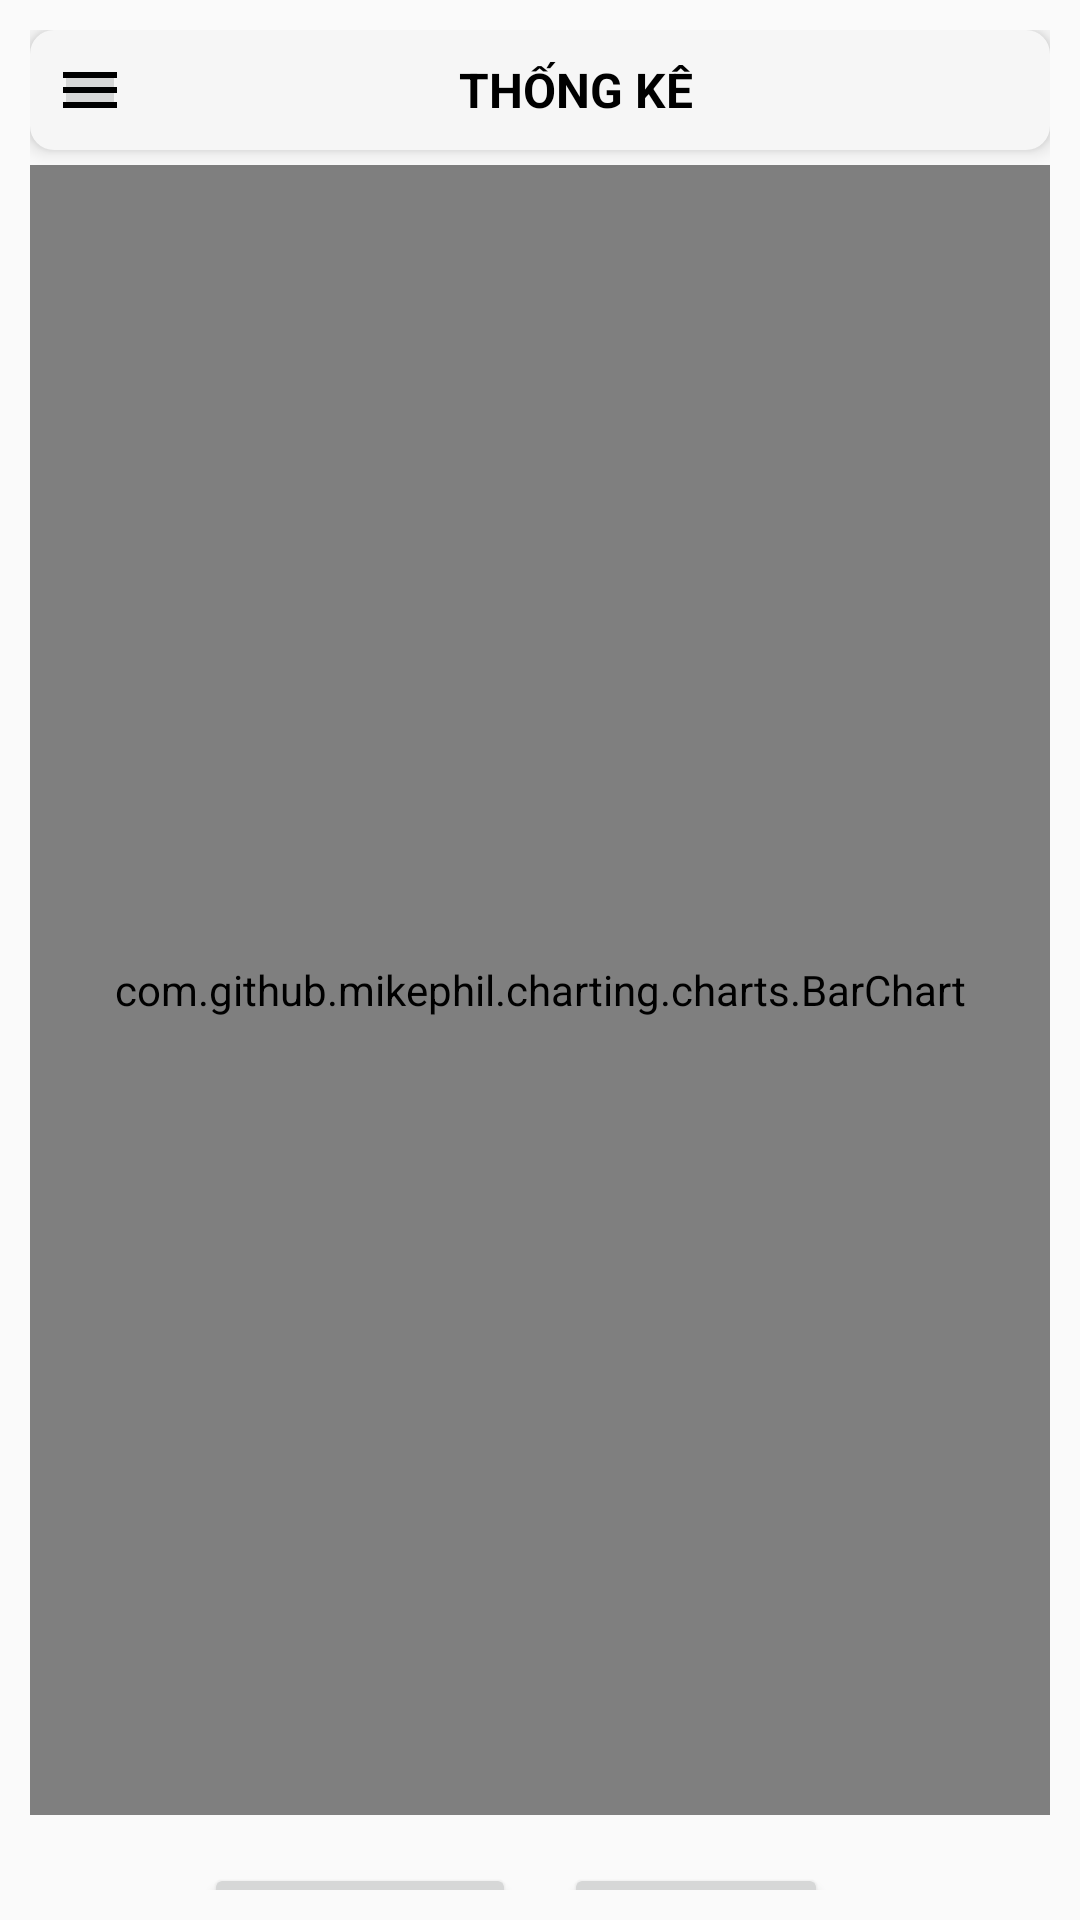

Named icons in this screenshot (1080 x 1920) and their bounding boxes, BBox(x1, y1, x2, y2):
Menu: BBox(63, 72, 117, 108)
